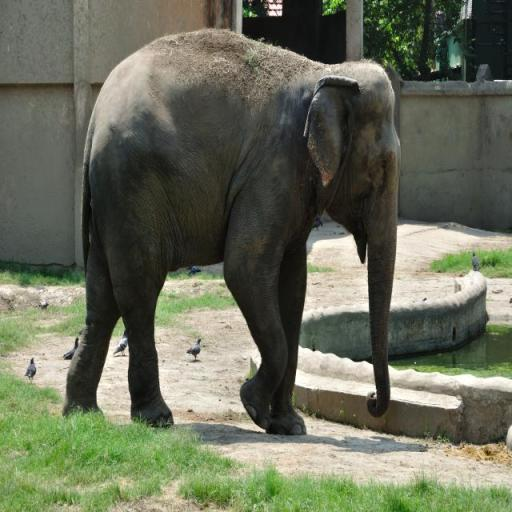Elephant: (62, 26, 403, 436)
